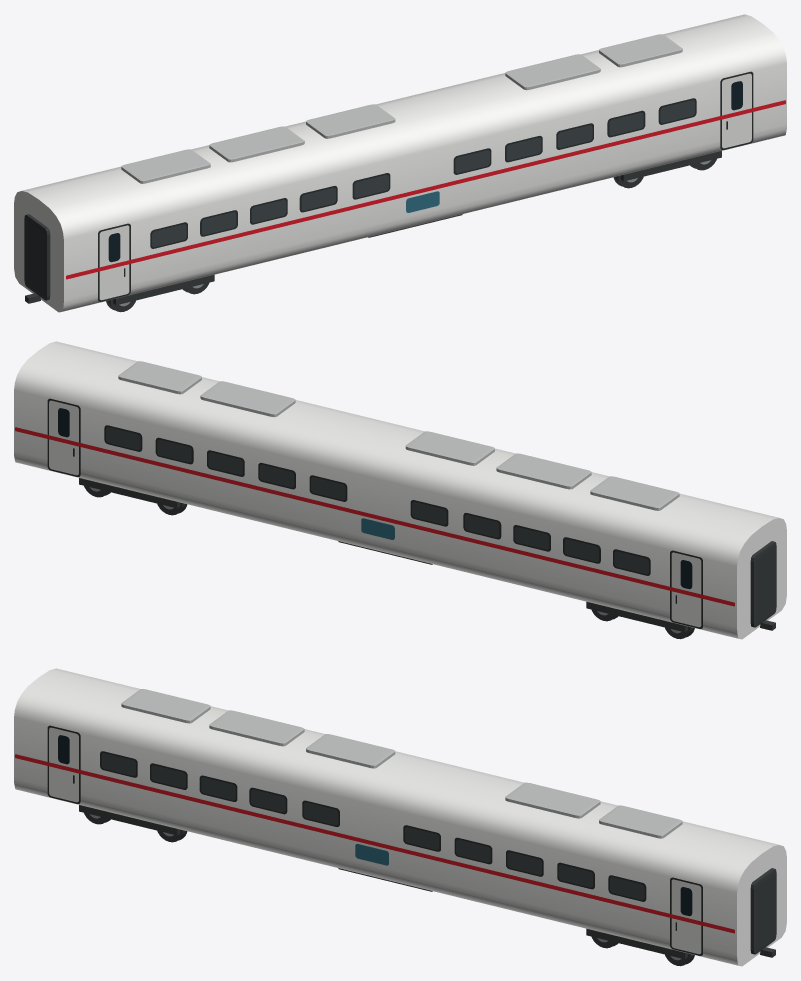
The model's file is ice3-br403-v2-service-403-8.glb.
The picture shows the model from 3 angles, top to bottom: view 1: azimuth 30°, elevation 25°; view 2: azimuth 150°, elevation 25°; view 3: azimuth 330°, elevation 25°; orthographic projection.
Visible parts, largest first — view 1: ice3_v2_service_403_8_matching_shell, ice3_v2_service_403_8_continuous_red_stripe_-1, ice3_v2_service_403_8_double_bellows_-1, ice3_v2_service_403_8_roof_fairing_1, ice3_v2_service_403_8_roof_fairing_3, ice3_v2_service_403_8_roof_fairing_0, ice3_v2_service_403_8_roof_fairing_2, ice3_v2_service_403_8_door_leaf_0_-1, ice3_v2_service_403_8_door_leaf_1_-1, ice3_v2_service_403_8_roof_fairing_4, ice3_v2_service_403_8_bogie_0_sideframe_-1, ice3_v2_service_403_8_bogie_1_sideframe_-1 (+10 smaller); view 2: ice3_v2_service_403_8_matching_shell, ice3_v2_service_403_8_continuous_red_stripe_1, ice3_v2_service_403_8_double_bellows_-1, ice3_v2_service_403_8_roof_fairing_1, ice3_v2_service_403_8_roof_fairing_3, ice3_v2_service_403_8_roof_fairing_0, ice3_v2_service_403_8_roof_fairing_2, ice3_v2_service_403_8_door_leaf_0_1, ice3_v2_service_403_8_door_leaf_1_1, ice3_v2_service_403_8_roof_fairing_4, ice3_v2_service_403_8_bogie_0, ice3_v2_service_403_8_bogie_1 (+10 smaller); view 3: ice3_v2_service_403_8_matching_shell, ice3_v2_service_403_8_continuous_red_stripe_-1, ice3_v2_service_403_8_double_bellows_1, ice3_v2_service_403_8_roof_fairing_1, ice3_v2_service_403_8_roof_fairing_3, ice3_v2_service_403_8_roof_fairing_0, ice3_v2_service_403_8_roof_fairing_2, ice3_v2_service_403_8_door_leaf_1_-1, ice3_v2_service_403_8_door_leaf_0_-1, ice3_v2_service_403_8_roof_fairing_4, ice3_v2_service_403_8_bogie_1_sideframe_-1, ice3_v2_service_403_8_bogie_0_sideframe_-1 (+10 smaller).
Boxes of the visible parts, x1,y1,x2,y2 form: ice3_v2_service_403_8_matching_shell: (14,14,786,312); ice3_v2_service_403_8_continuous_red_stripe_-1: (66,100,785,279); ice3_v2_service_403_8_double_bellows_-1: (24,214,50,300); ice3_v2_service_403_8_roof_fairing_1: (209,126,304,162); ice3_v2_service_403_8_roof_fairing_3: (505,54,600,90); ice3_v2_service_403_8_roof_fairing_0: (121,149,210,183); ice3_v2_service_403_8_roof_fairing_2: (306,104,395,138); ice3_v2_service_403_8_door_leaf_0_-1: (99,225,129,300); ice3_v2_service_403_8_door_leaf_1_-1: (722,73,751,148); ice3_v2_service_403_8_roof_fairing_4: (599,34,682,67); ice3_v2_service_403_8_bogie_0_sideframe_-1: (113,274,214,305); ice3_v2_service_403_8_bogie_1_sideframe_-1: (620,151,721,181); ice3_v2_service_403_8_matching_shell: (14,341,786,639); ice3_v2_service_403_8_continuous_red_stripe_1: (15,427,734,606); ice3_v2_service_403_8_double_bellows_-1: (750,541,776,627); ice3_v2_service_403_8_roof_fairing_1: (496,453,591,489); ice3_v2_service_403_8_roof_fairing_3: (200,381,295,417); ice3_v2_service_403_8_roof_fairing_0: (590,476,679,510); ice3_v2_service_403_8_roof_fairing_2: (405,431,494,465); ice3_v2_service_403_8_door_leaf_0_1: (671,552,701,627); ice3_v2_service_403_8_door_leaf_1_1: (49,400,78,475); ice3_v2_service_403_8_roof_fairing_4: (118,361,201,394); ice3_v2_service_403_8_bogie_0: (586,601,694,639); ice3_v2_service_403_8_bogie_1: (79,478,187,515); ice3_v2_service_403_8_matching_shell: (14,668,786,966); ice3_v2_service_403_8_continuous_red_stripe_-1: (15,754,734,933); ice3_v2_service_403_8_double_bellows_1: (750,868,776,954); ice3_v2_service_403_8_roof_fairing_1: (209,710,304,746); ice3_v2_service_403_8_roof_fairing_3: (505,782,600,818); ice3_v2_service_403_8_roof_fairing_0: (121,689,210,723); ice3_v2_service_403_8_roof_fairing_2: (306,734,395,768); ice3_v2_service_403_8_door_leaf_1_-1: (671,879,701,954); ice3_v2_service_403_8_door_leaf_0_-1: (49,727,78,802); ice3_v2_service_403_8_roof_fairing_4: (599,805,682,838); ice3_v2_service_403_8_bogie_1_sideframe_-1: (586,928,687,959); ice3_v2_service_403_8_bogie_0_sideframe_-1: (79,805,180,835).
Bounding box in the file's own units: 25.5 × 4.04 × 3.01.
